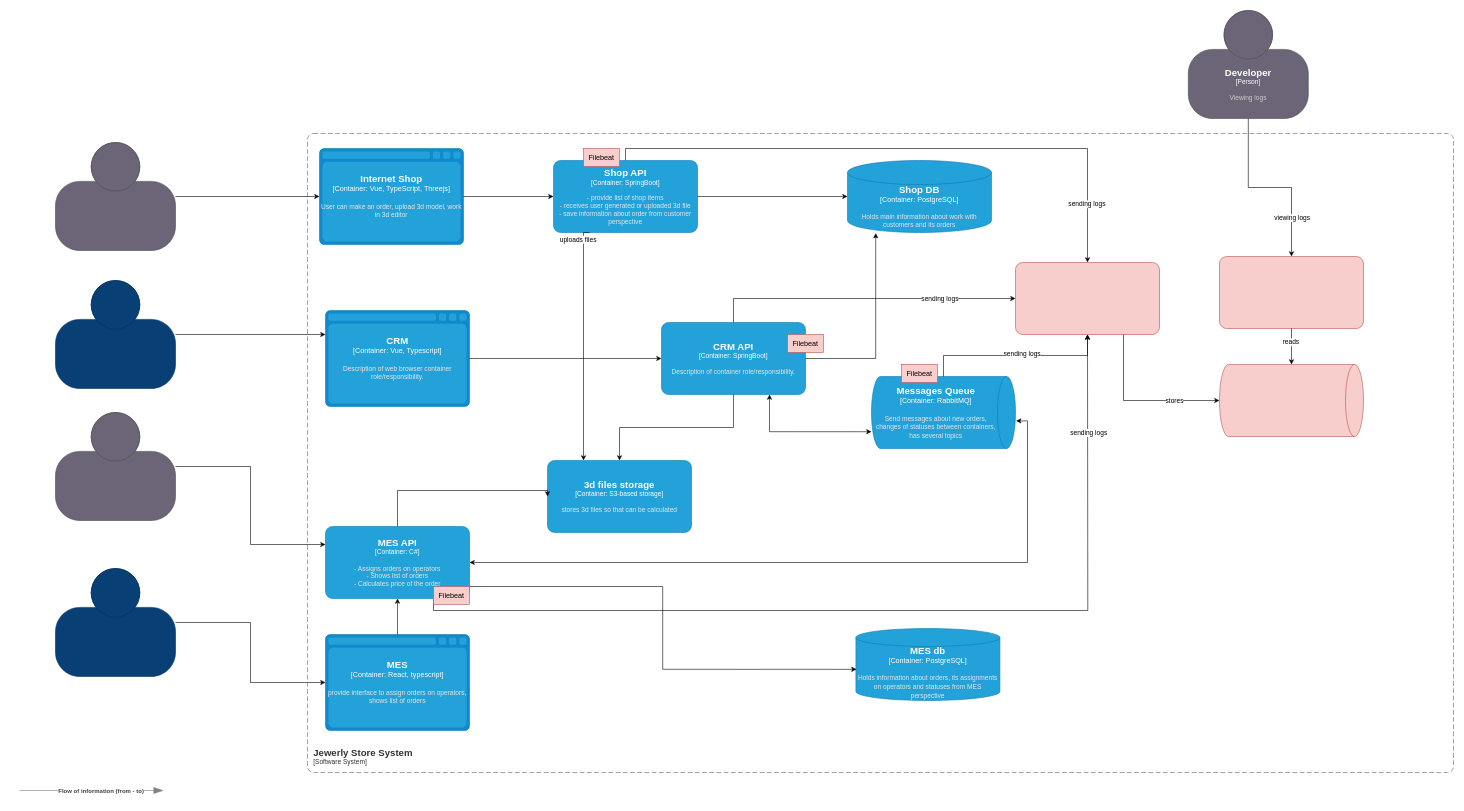
Some shapes in this 1464 by 811 pixel diagram are drawn without their labels. Each missing label, with the centre of its shape:
"API user [Person] Description of external person." belongs at pixel 115 466.
"Customer [Person] Description of external person." belongs at pixel 115 196.
"Elasticsearch [Container: Elasticsearch] Stores logs" belongs at pixel 1291 400.
"Kibana [Container: Kibana] UI for viewing logs and creating dashboards" belongs at pixel 1291 292.
"Logstash [Container: Logstash] Parses logs" belongs at pixel 1087 298.
"Operator [Person] Takes order in work, manufactures jewerly" belongs at pixel 115 622.
"Seller [Person] Operates with order, confirms manufacturing for the user" belongs at pixel 115 334.
